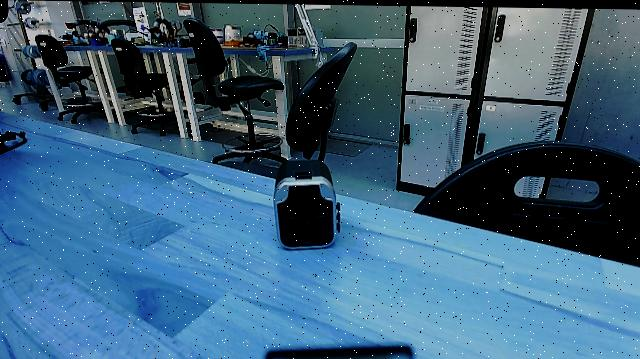adapter: (268, 157, 344, 257)
